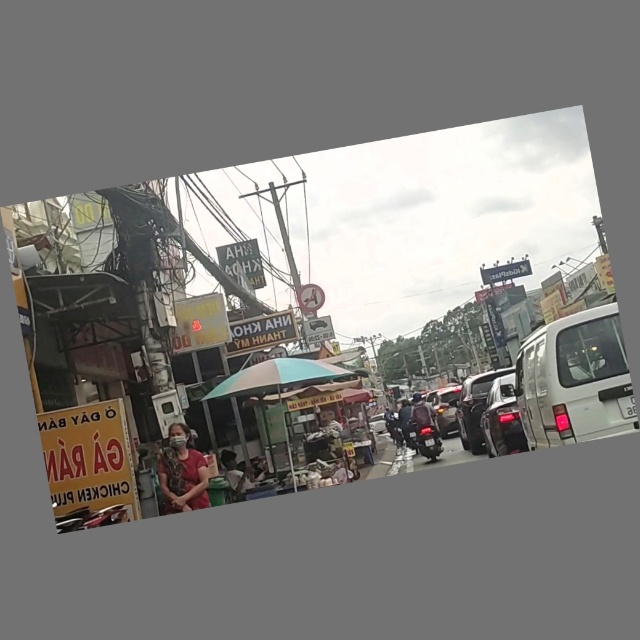P.139: (295, 282, 329, 314)
S.505a*Xe tai: (302, 317, 334, 343)
